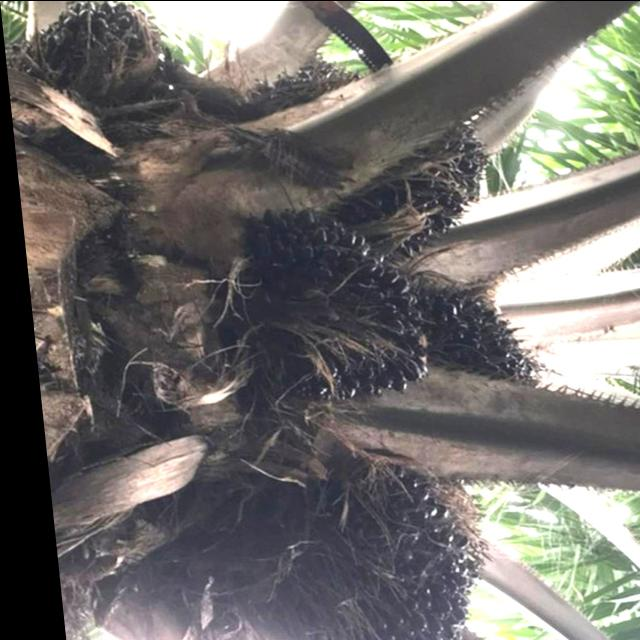almost: (238, 66, 501, 260), (224, 453, 472, 640), (237, 209, 428, 402), (27, 0, 185, 135), (400, 286, 538, 406)
